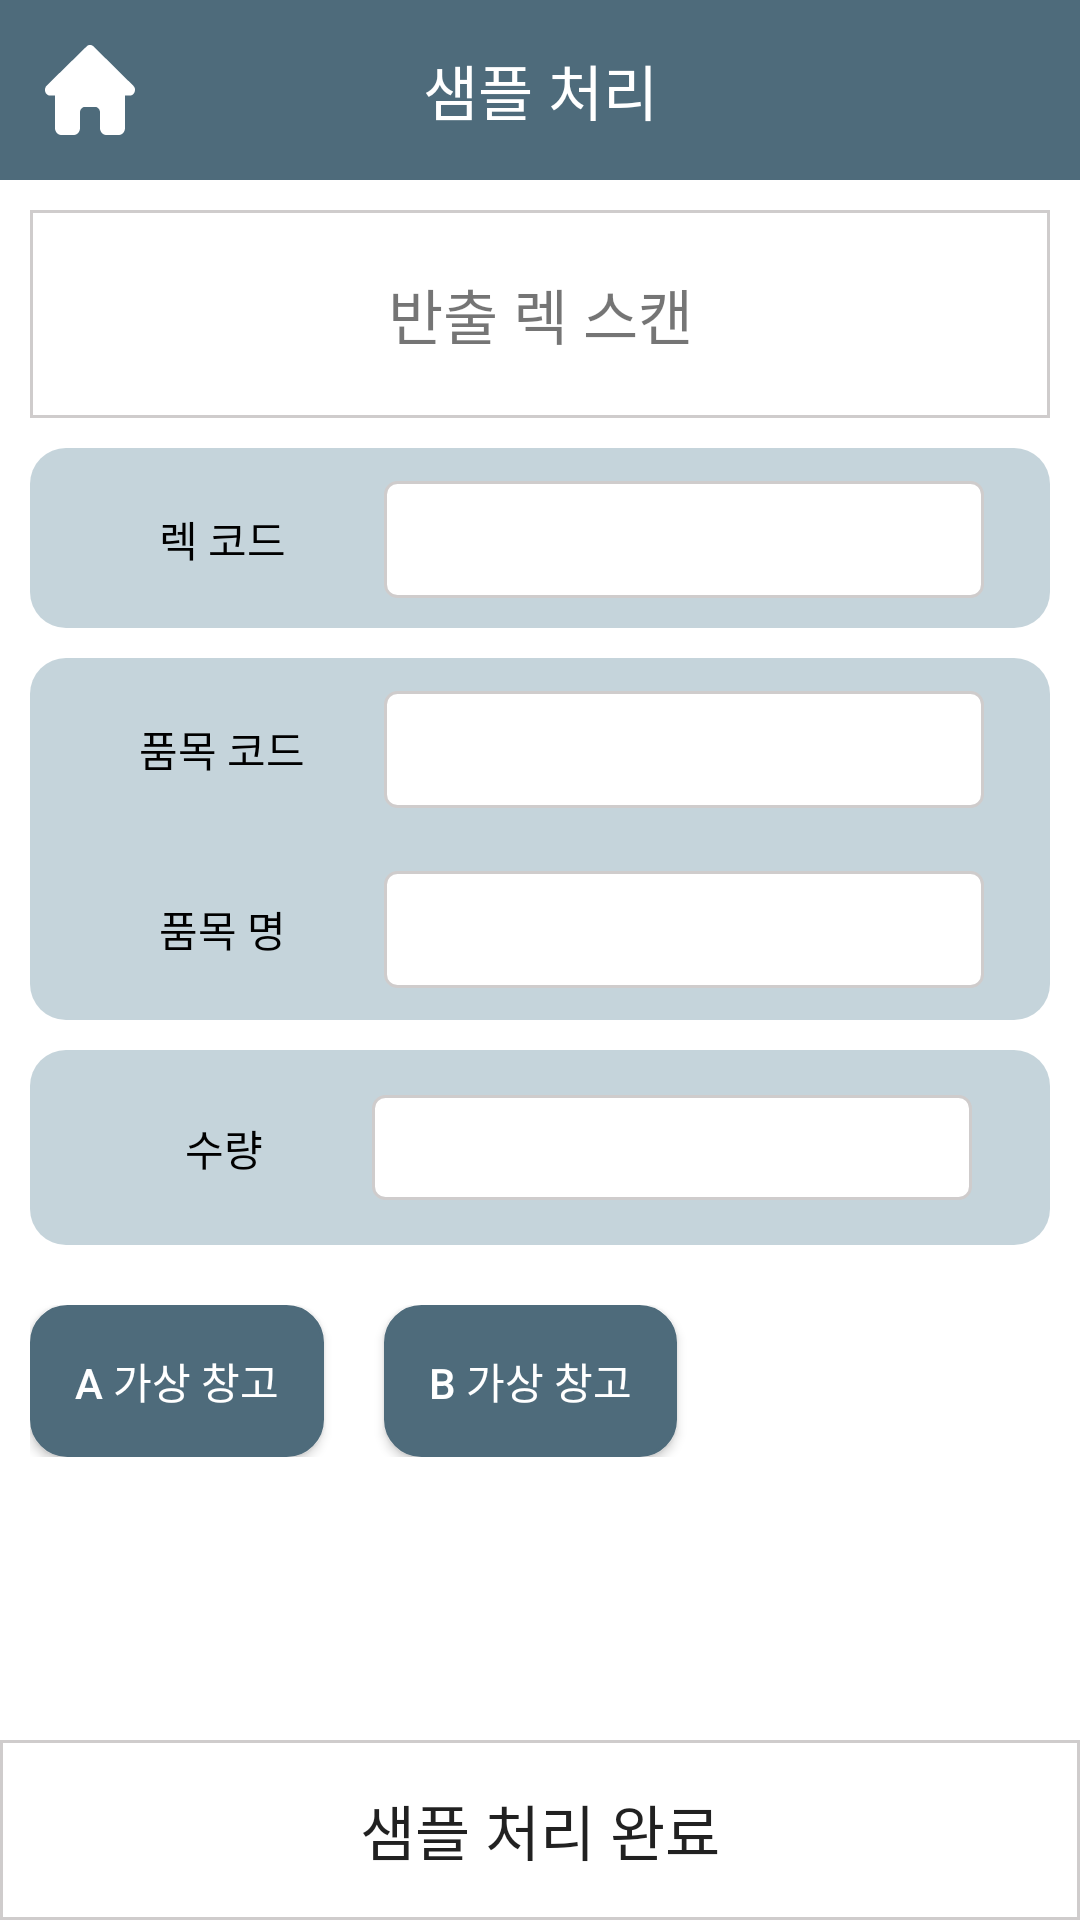

Where to tap for icons on this 1080px x 1920px app screen, as point (x, y):
house: point (90, 90)
